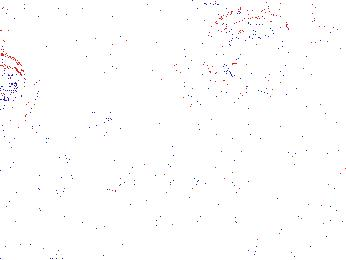moon jellyfish: (201, 8, 294, 92), (26, 5, 142, 59), (1, 54, 26, 101)
